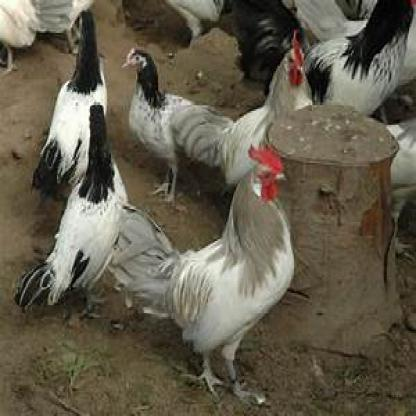chicken: (116, 142, 294, 402), (14, 104, 127, 312), (120, 45, 220, 208), (218, 31, 314, 192), (30, 7, 107, 192)
